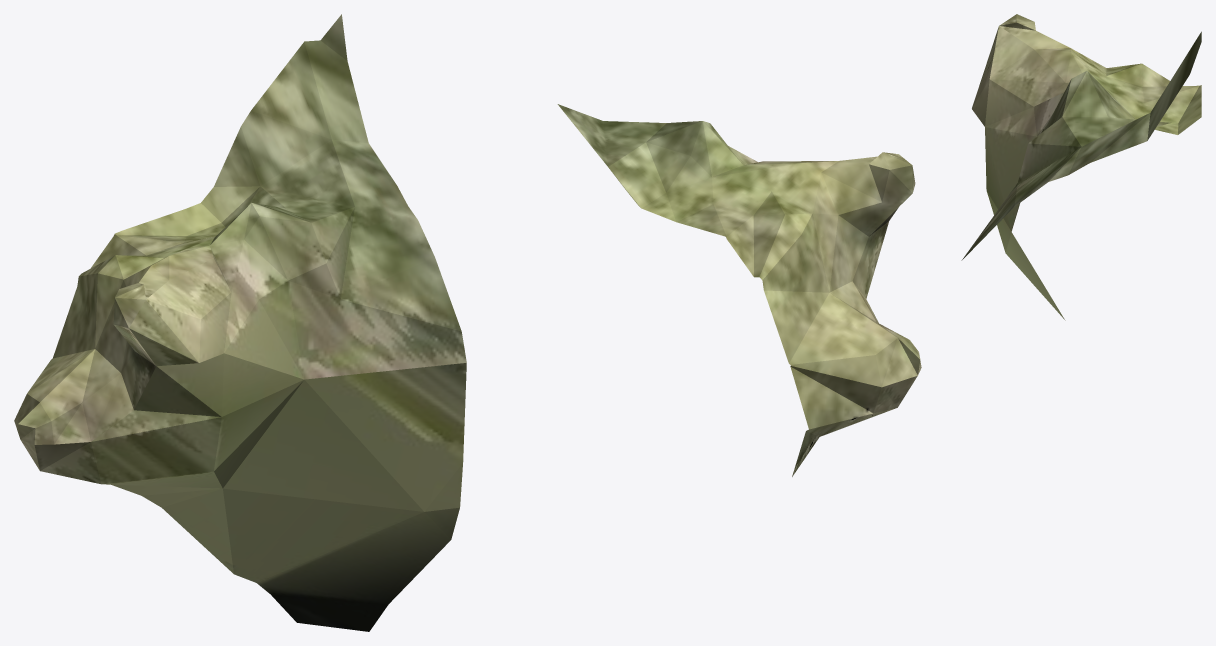
The picture shows the model from 3 angles, left to right: view 1: azimuth 30°, elevation 25°; view 2: azimuth 150°, elevation 25°; view 3: azimuth 270°, elevation 25°; orthographic projection.
Size of the model in its own units: 1.82 by 2.81 by 1.06.
2 materials, 2 textured.
